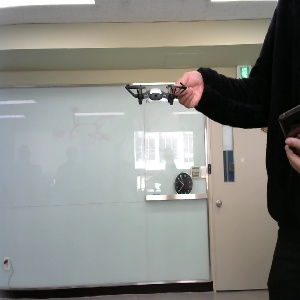Drone: (122, 74, 206, 110)
